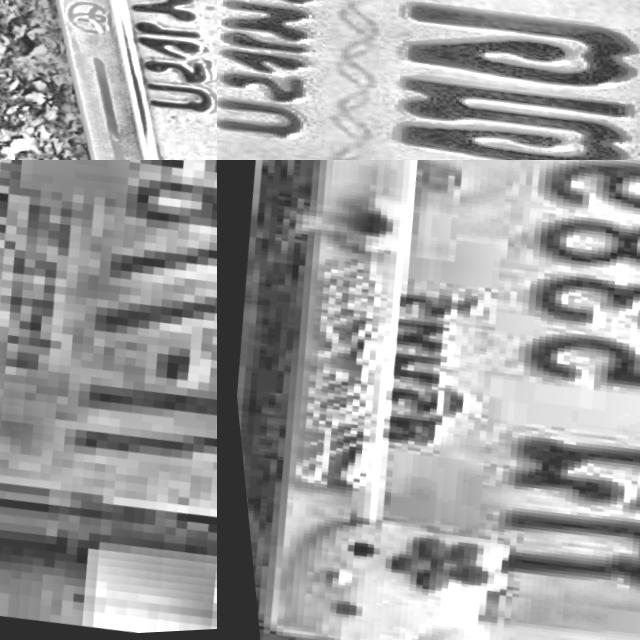license-plate: (217, 160, 640, 640), (0, 160, 217, 640), (217, 0, 640, 160), (0, 0, 217, 160)
